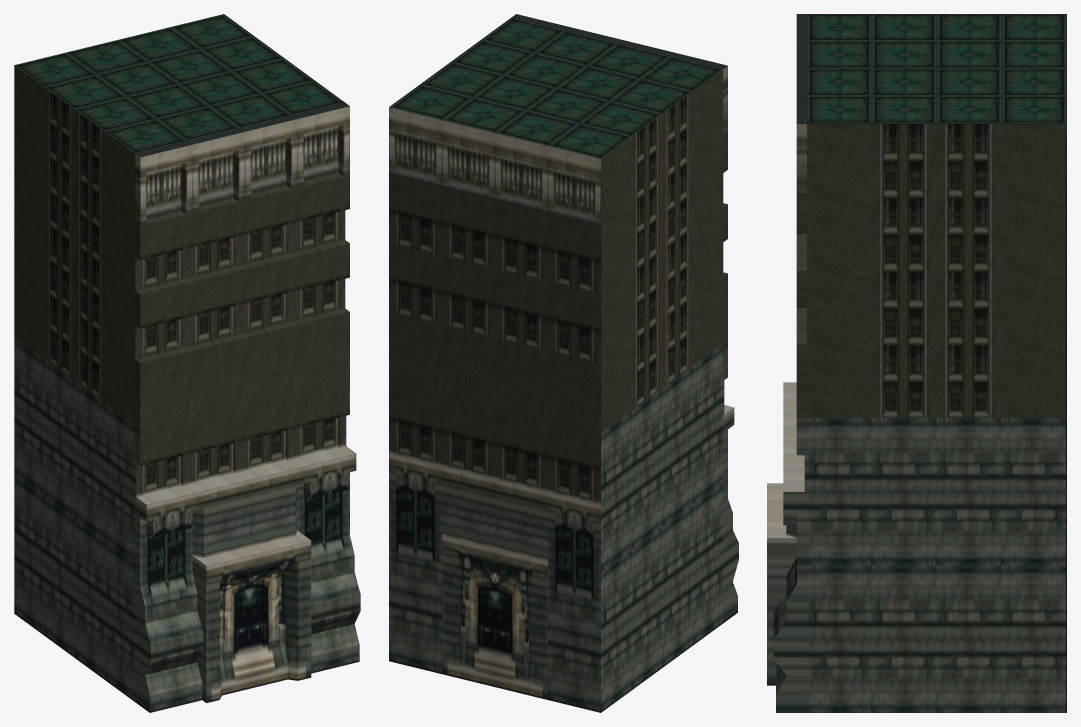
File: outland_building02.fbx
3 views of the same model, side by side, from view 1: azimuth 30°, elevation 25°; view 2: azimuth 150°, elevation 25°; view 3: azimuth 270°, elevation 25° (orthographic). The views are drawn at different scales.
Parts seen in each view (by area): view 1: Cube; view 2: Cube; view 3: Cube.
Part boxes in pixels (left/top/right/bottom): Cube: left=14, top=14, right=360, bottom=712; Cube: left=389, top=14, right=738, bottom=712; Cube: left=767, top=14, right=1066, bottom=712.
Size of the model in its own units: 2000 by 5000 by 2307.
Materials: 1 (1 with a texture image).
